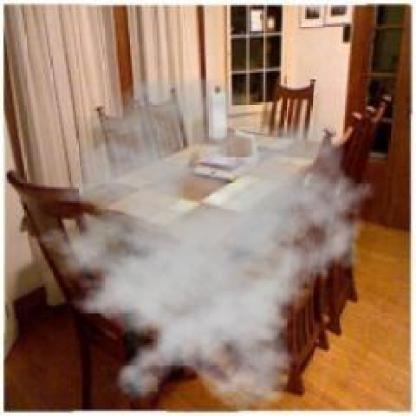Smoke: (18, 75, 384, 414)
